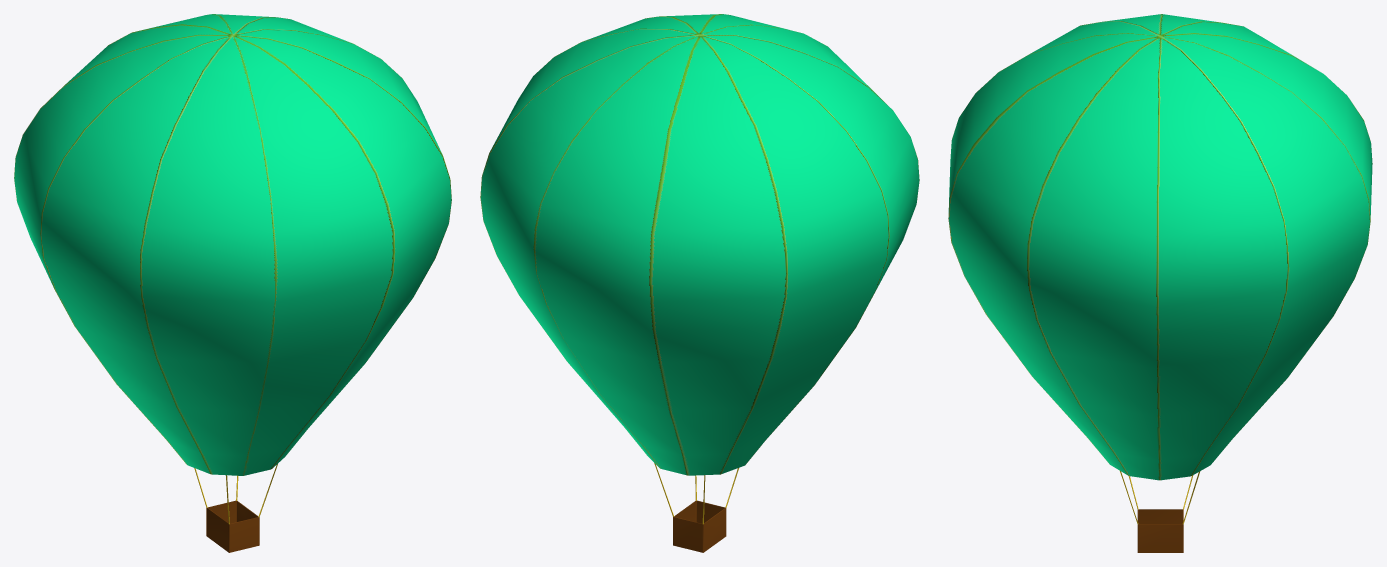
File: Normal_HotAirBalloon.fbx
3 renders of one model, left to right at view 1: azimuth 30°, elevation 25°; view 2: azimuth 150°, elevation 25°; view 3: azimuth 270°, elevation 25°, orthographic.
Visible parts, largest first — view 1: Normal_HotAirBalloon; view 2: Normal_HotAirBalloon; view 3: Normal_HotAirBalloon.
Boxes of the visible parts, bbox=[...] form: Normal_HotAirBalloon: bbox=[14, 14, 451, 552]; Normal_HotAirBalloon: bbox=[480, 14, 919, 552]; Normal_HotAirBalloon: bbox=[948, 14, 1372, 552].
Bounding box in the file's own units: 1761 × 2229 × 1683.
